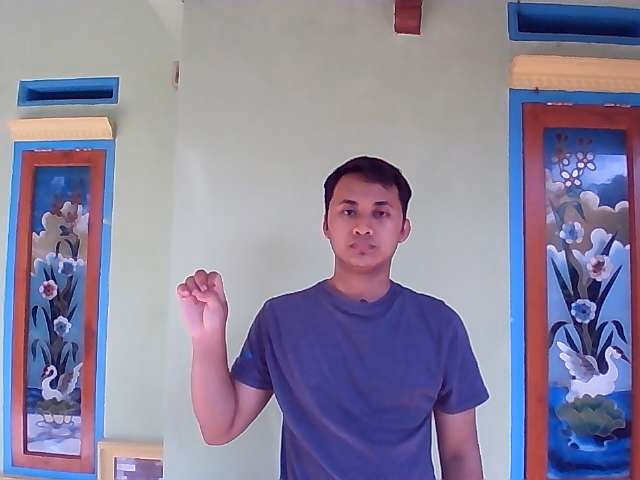E: (175, 267, 228, 330)
